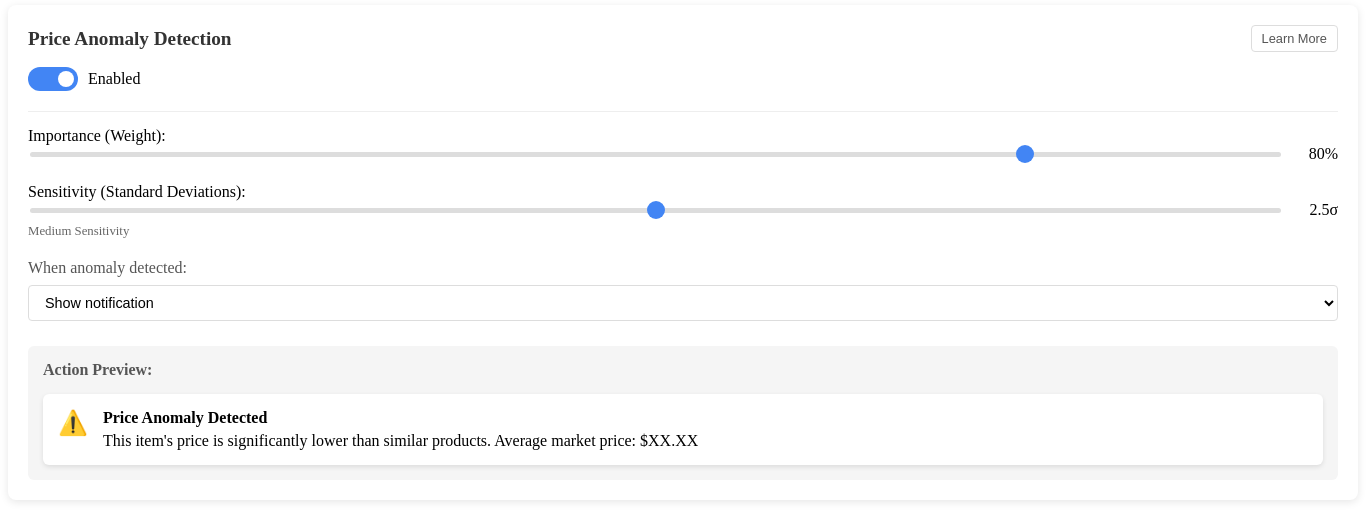
it: PriceAnomalySettings Component › changes action when dropdown is changed
Change the selected action
Select "Display warning banner" in the dropdown at (683, 303), box [28,285,1338,321]
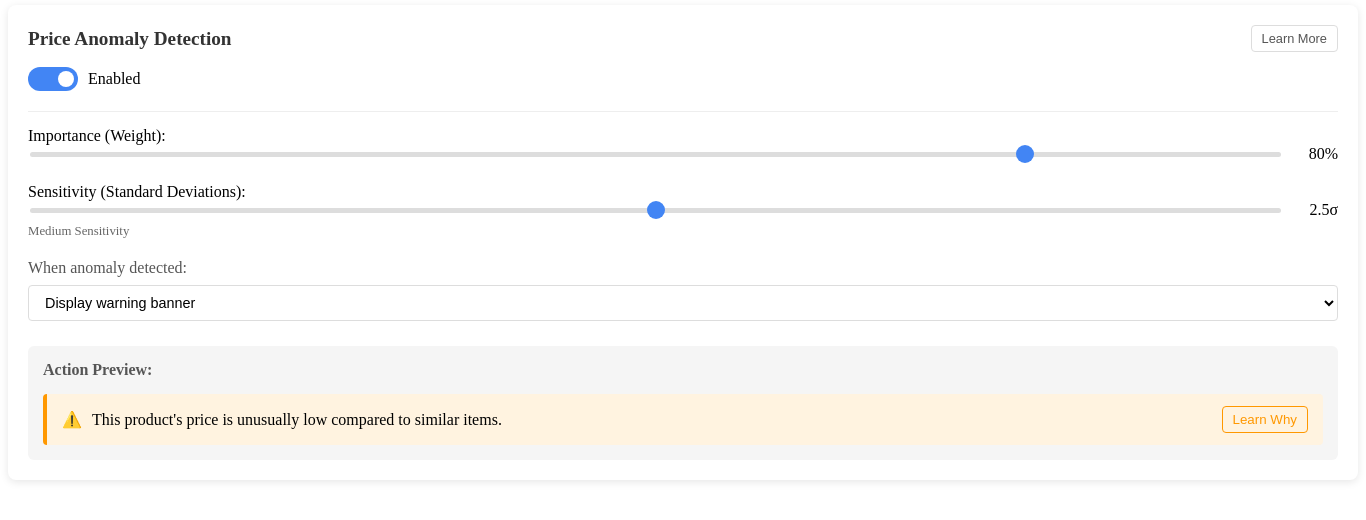
Expected: the text "This product's price is unusually low compared to similar items." is shown, [92,410,502,428]
